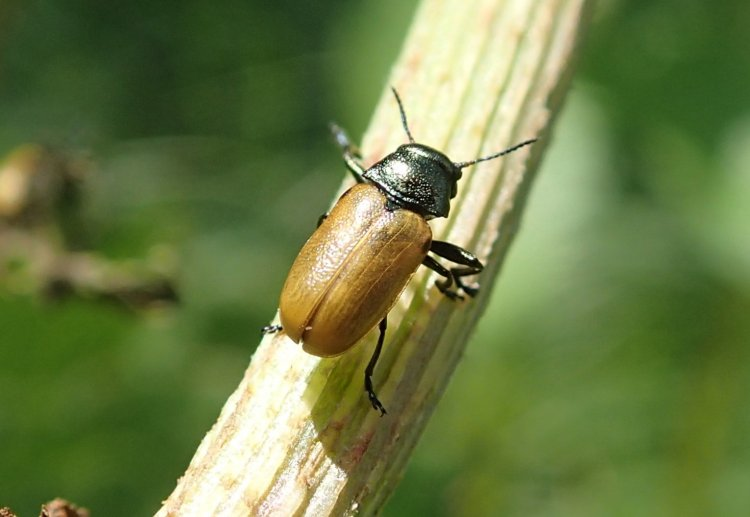Labidostomis_longimana: (246, 81, 541, 426)
